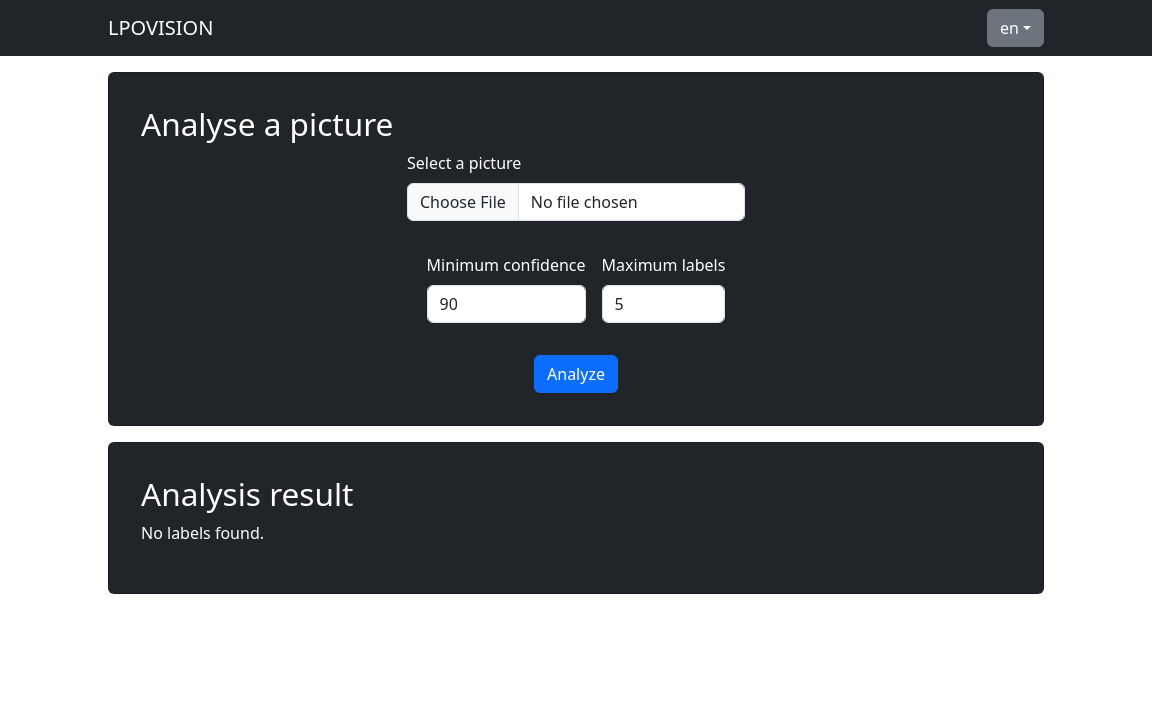
Test: Change GUI language without reloading the page › Should change the language
Click the button "en" at (1016, 28), box [987,9,1044,47]
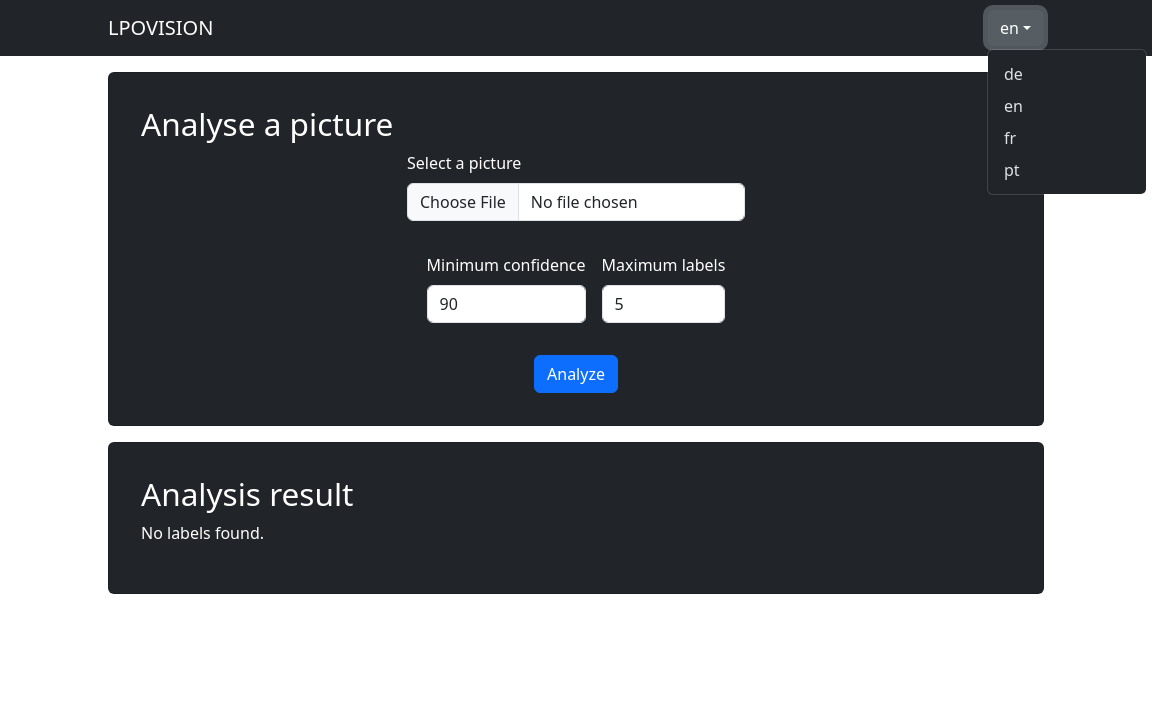
Click the button "pt" at (1067, 170), box [988,154,1146,186]
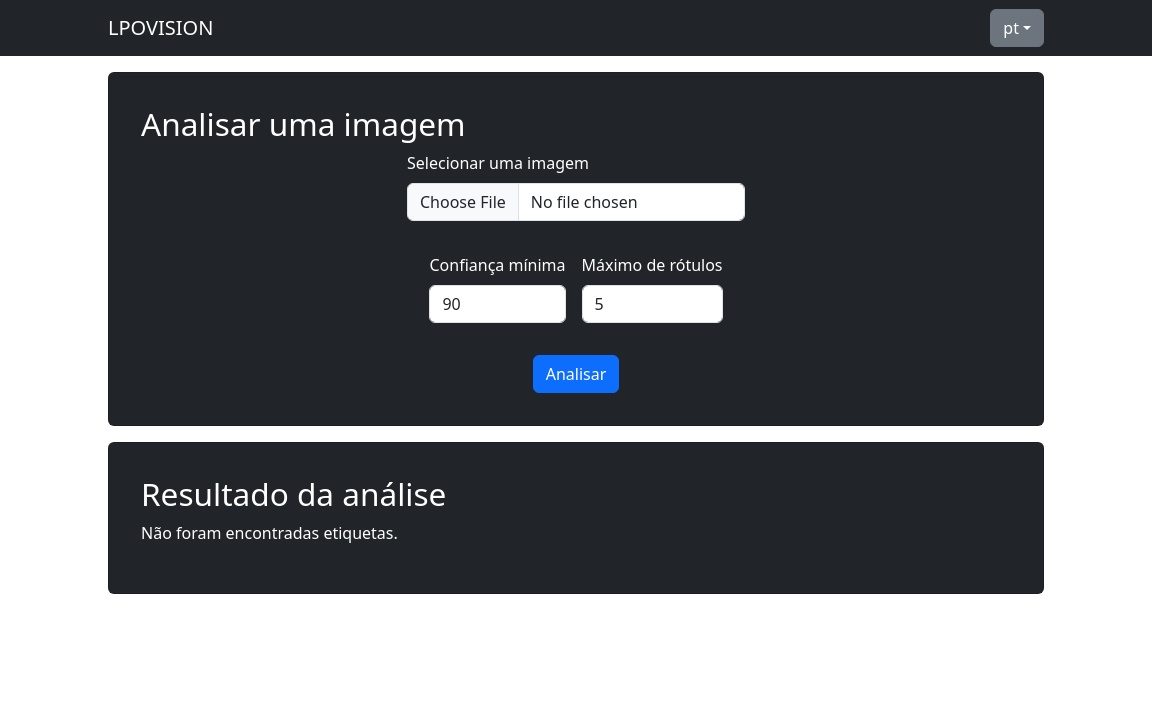
Check: the button "pt" is shown, box [990,9,1044,47]
